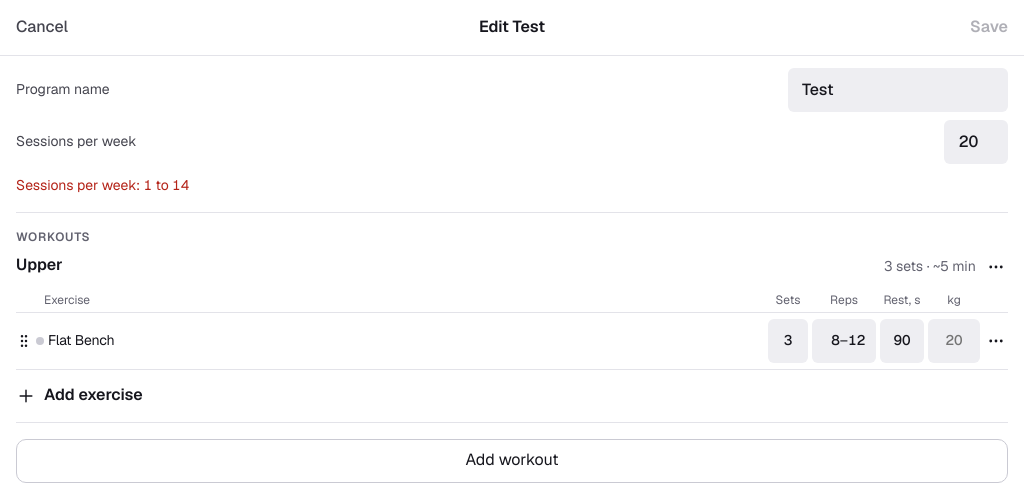
Test: O16 the sessions-per-week fault disables Save and is the accessible description of Sessions per week, until fixed
Check: the button "Save" is disabled, box [970,6,1008,50]
Replace the text in the number field labelled "Sessions per week" with "5" at (976, 142), box [944,120,1008,164]
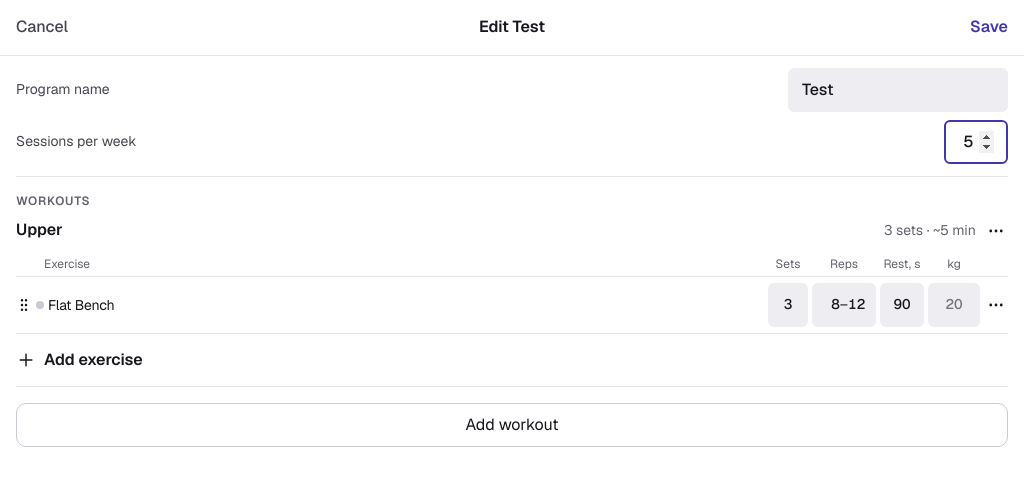
Check: the text "Sessions per week: 1 to 14" is gone
Check: the button "Save" is enabled, box [970,6,1008,50]
